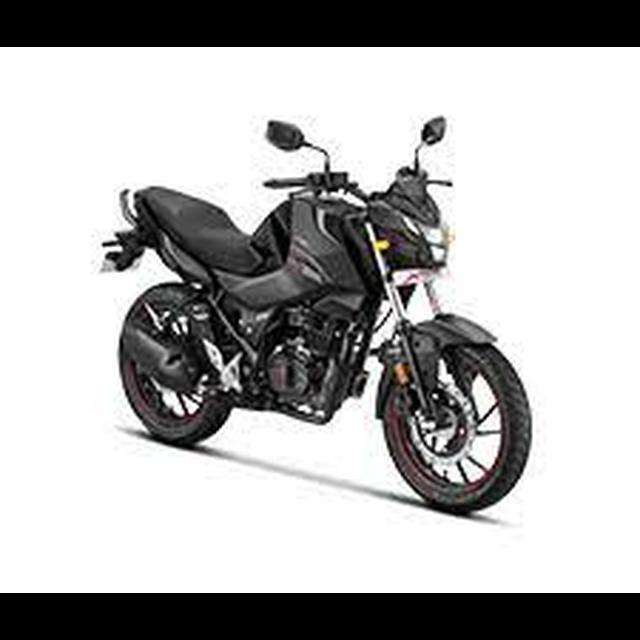motorcycle: (93, 115, 537, 517)
